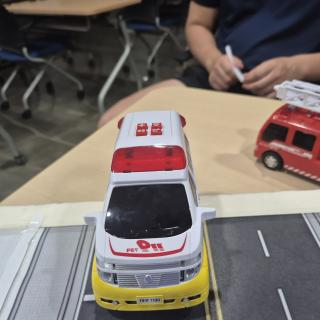Ambulance: (84, 111, 216, 310)
